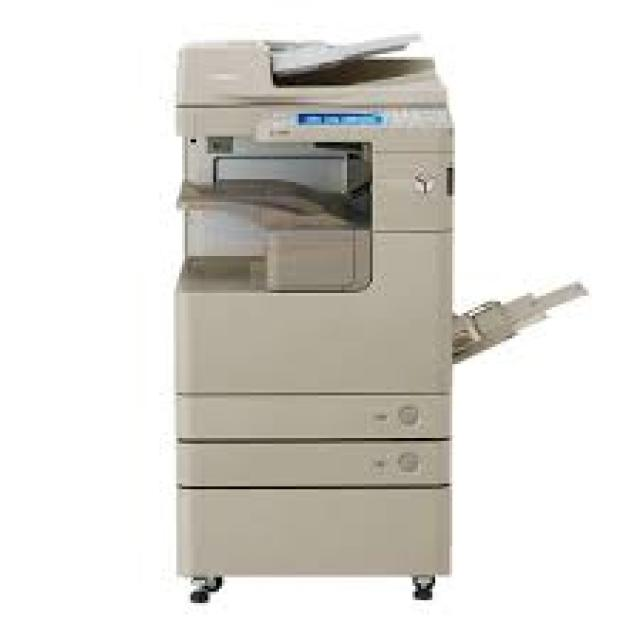printer: (168, 28, 586, 603)
